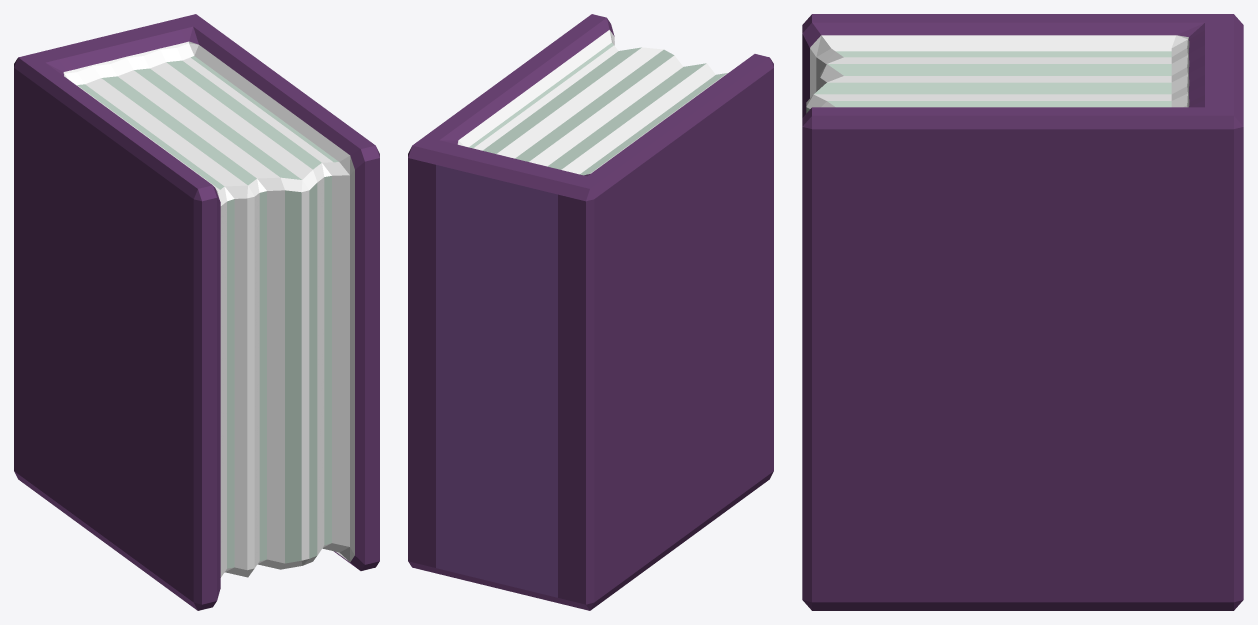
File: G477Proj2DecorBooks.fbx
3 views of the same model, side by side, from view 1: azimuth 30°, elevation 25°; view 2: azimuth 150°, elevation 25°; view 3: azimuth 270°, elevation 25° (orthographic). The views are drawn at different scales.
Visible parts, largest first — view 1: PlainBook1; view 2: PlainBook1; view 3: PlainBook1.
Part boxes in pixels (bbox=[...]): PlainBook1: bbox=[14, 14, 379, 610]; PlainBook1: bbox=[408, 14, 773, 610]; PlainBook1: bbox=[802, 14, 1243, 610].
Bounding box in the file's own units: 12 × 26 × 21.
